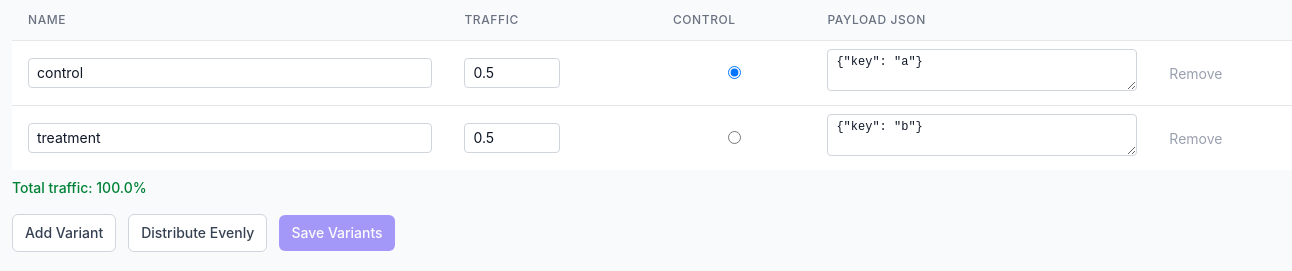
Scenario: VariantForm › shows error on blur for empty name
The width and height of the screenshot is (1292, 271).
Clear the field showing "control" at coordinates (230, 73), box [28,58,432,88]
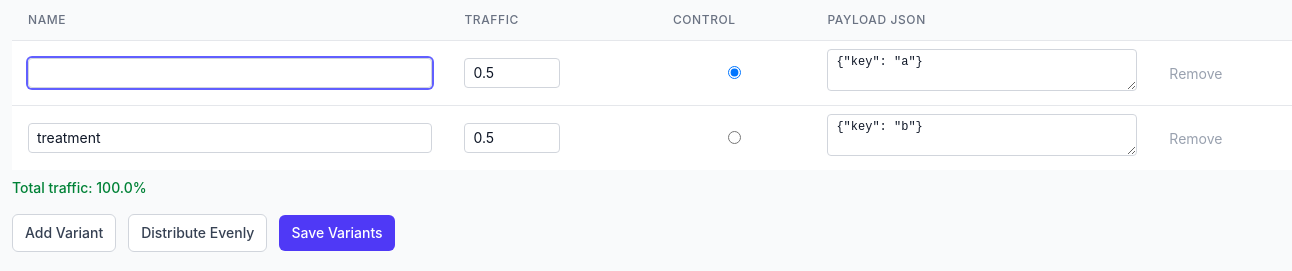
Press Tab
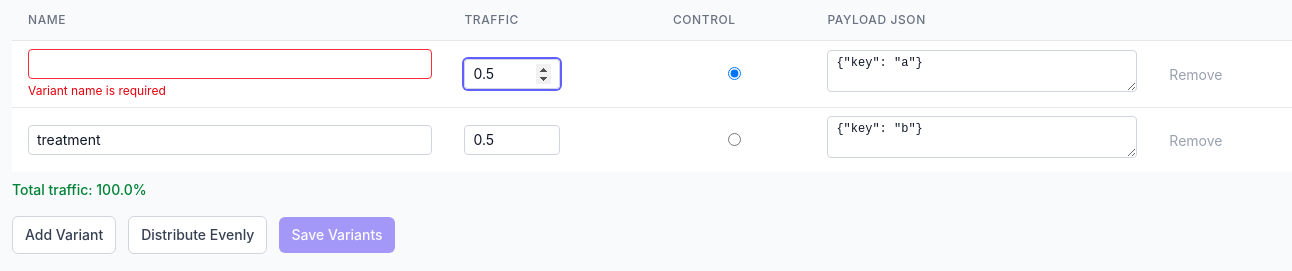
Expected: the text "Variant name is required" is shown, [28,83,166,98]
